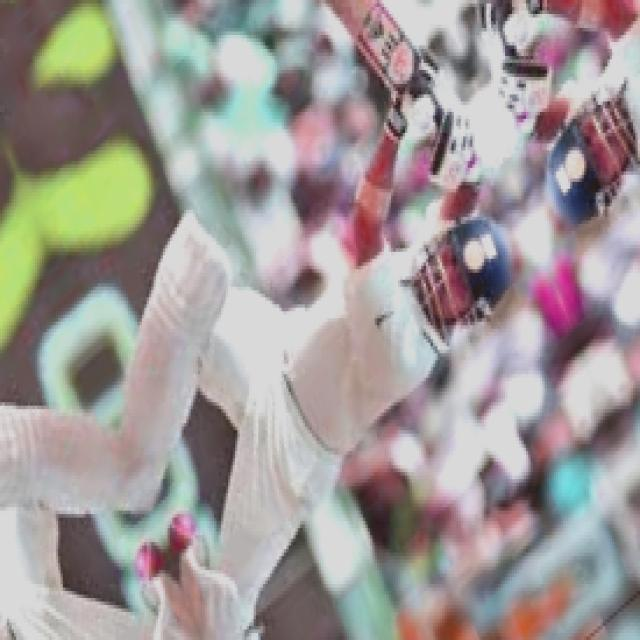bat: (310, 0, 418, 86)
